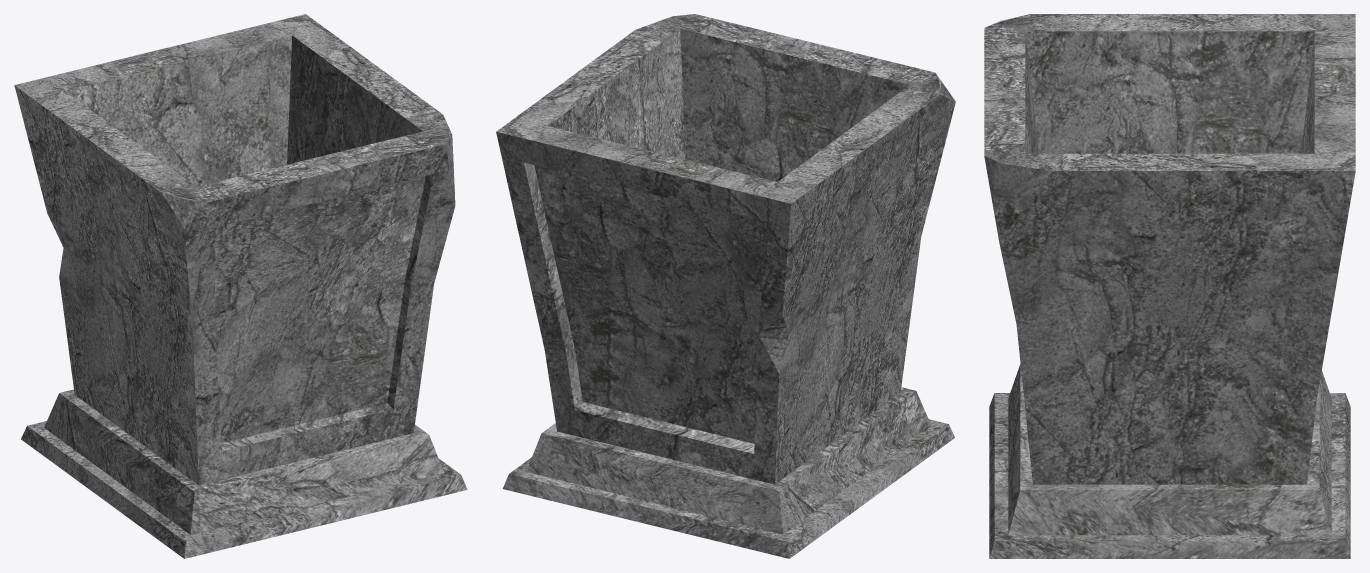
The model's file is materials_3_pot_0.fbx.
3 views of the same model, side by side, from view 1: azimuth 30°, elevation 25°; view 2: azimuth 150°, elevation 25°; view 3: azimuth 270°, elevation 25° (orthographic). The views are drawn at different scales.
Parts seen in each view (by area): view 1: materials_3_pot_0; view 2: materials_3_pot_0; view 3: materials_3_pot_0.
Boxes of the visible parts, x1,y1,x2,y2 form: materials_3_pot_0: (14, 14, 467, 558); materials_3_pot_0: (496, 14, 955, 558); materials_3_pot_0: (984, 14, 1355, 558).
Size of the model in its own units: 66.83 by 77.43 by 66.83.
